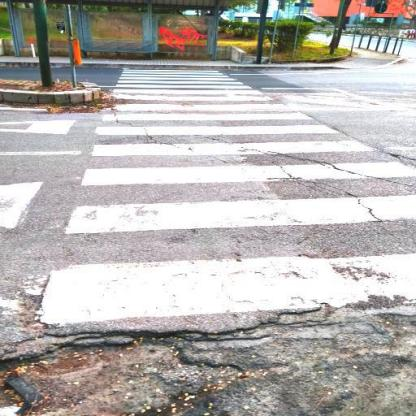crosswalk: (77, 139, 416, 193), (99, 102, 318, 122)
